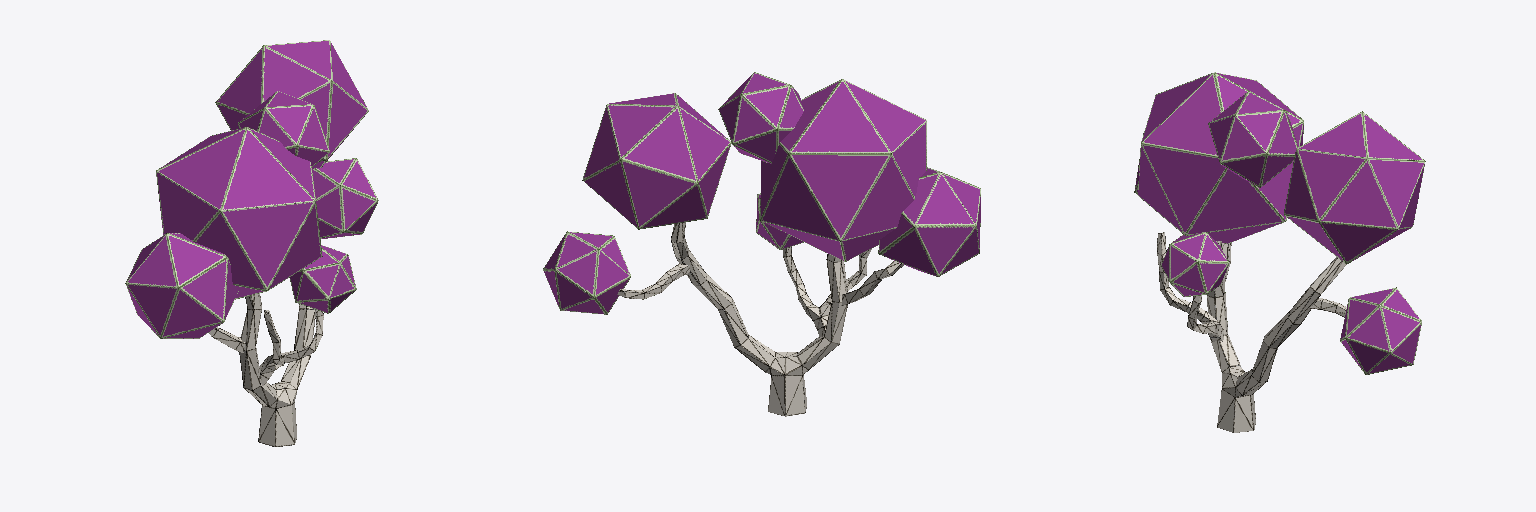
3 views of the same model, side by side, from view 1: azimuth 30°, elevation 25°; view 2: azimuth 150°, elevation 25°; view 3: azimuth 270°, elevation 25° (orthographic).
Parts seen in each view (by area): view 1: Default; view 2: Default; view 3: Default.
Boxes of the visible parts, box(x1,y1,x2,y2) form: Default: box(125, 40, 378, 446); Default: box(543, 72, 980, 416); Default: box(1134, 72, 1425, 432).
Size of the model in its own units: 27.98 by 26.54 by 20.8.
Materials: 2 (1 with a texture image).